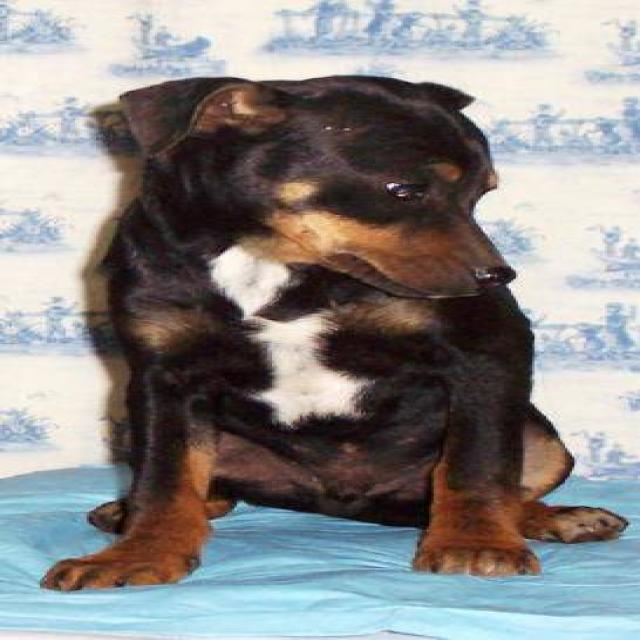dog: (37, 73, 628, 591)
